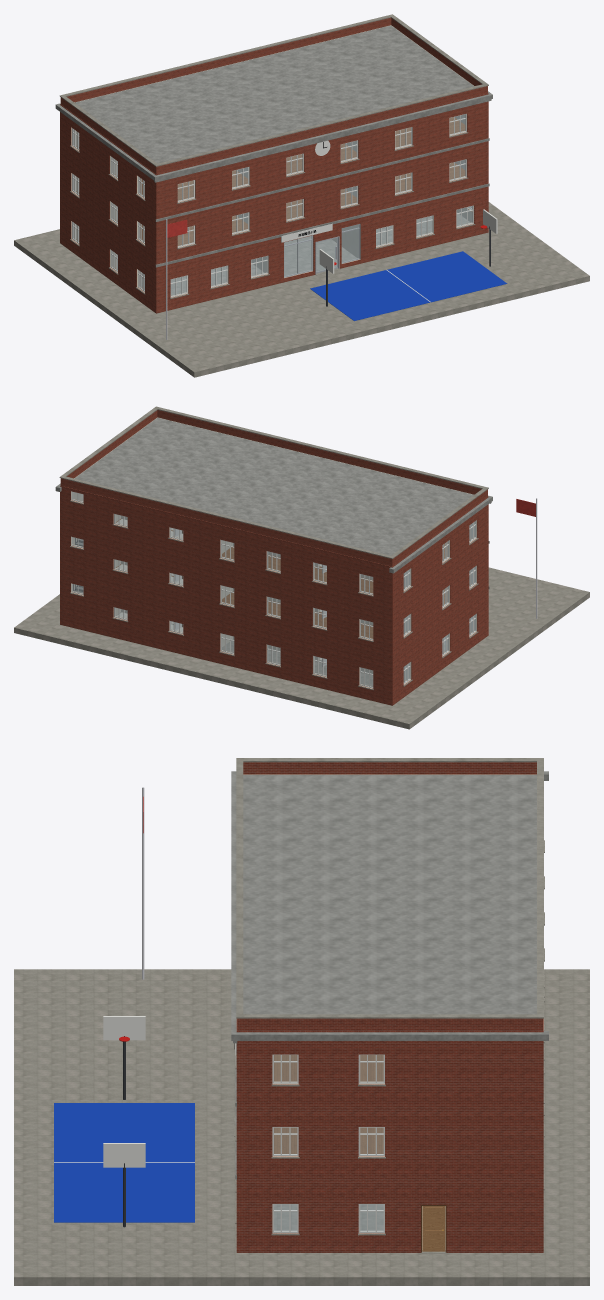
Rendered from b_school_primary.gltf.
3 renders of one model, top to bottom at view 1: azimuth 30°, elevation 25°; view 2: azimuth 150°, elevation 25°; view 3: azimuth 270°, elevation 25°, orthographic. The views are drawn at different scales.
Parts seen in each view (by area): view 1: S_school_primary, D_school_primary_F1_S8_Door0; view 2: S_school_primary; view 3: S_school_primary, D_school_primary_F1_E2_Door0.
Boxes of the visible parts, bbox=[...] form: S_school_primary: bbox=[14, 14, 589, 377]; D_school_primary_F1_S8_Door0: bbox=[316, 237, 338, 273]; S_school_primary: bbox=[14, 406, 589, 729]; S_school_primary: bbox=[14, 758, 589, 1285]; D_school_primary_F1_E2_Door0: bbox=[422, 1206, 445, 1251].
Size of the model in its own units: 31 by 11.46 by 24.5.
Materials: 22 (11 with a texture image).
